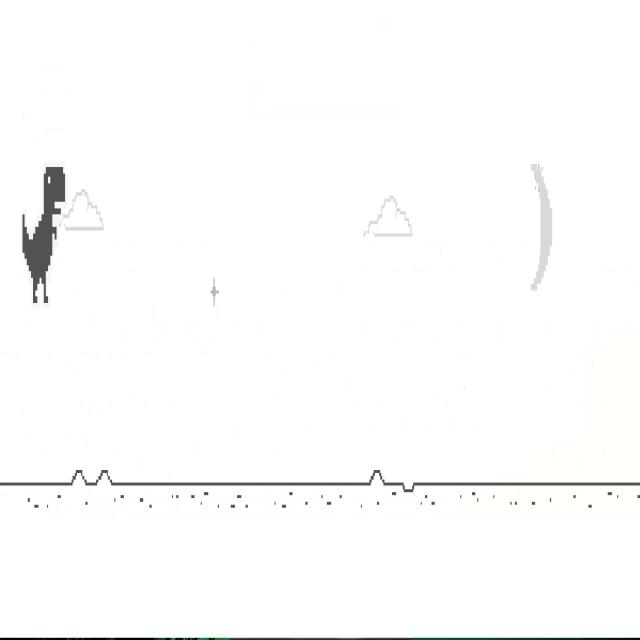dino: (22, 166, 65, 304)
